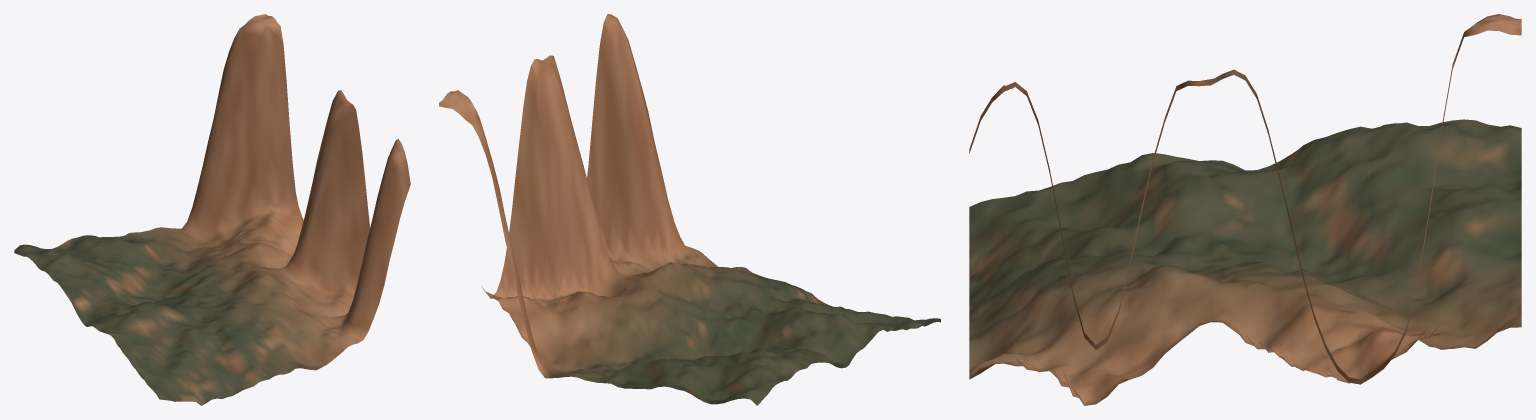
The model's file is terrain-074.glb.
3 views of the same model, side by side, from view 1: azimuth 30°, elevation 25°; view 2: azimuth 150°, elevation 25°; view 3: azimuth 270°, elevation 25° (orthographic). The views are drawn at different scales.
Visible parts, largest first — view 1: terrain-074; view 2: terrain-074; view 3: terrain-074.
Boxes of the visible parts, x1,y1,x2,y2 form: terrain-074: (14, 14, 410, 405); terrain-074: (439, 14, 940, 405); terrain-074: (969, 14, 1521, 405).
Size of the model in its own units: 384 by 347 by 384.
